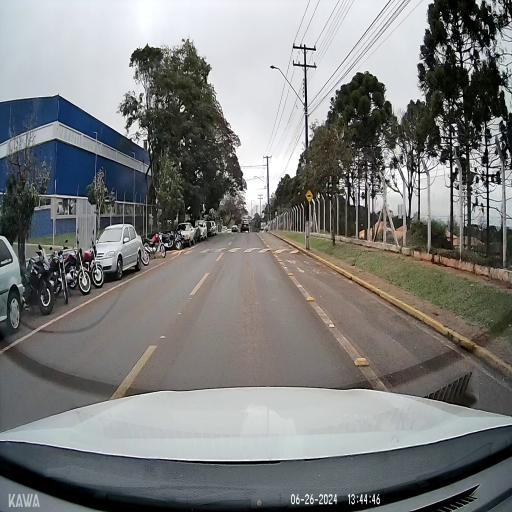A-18: (305, 188, 313, 204)
